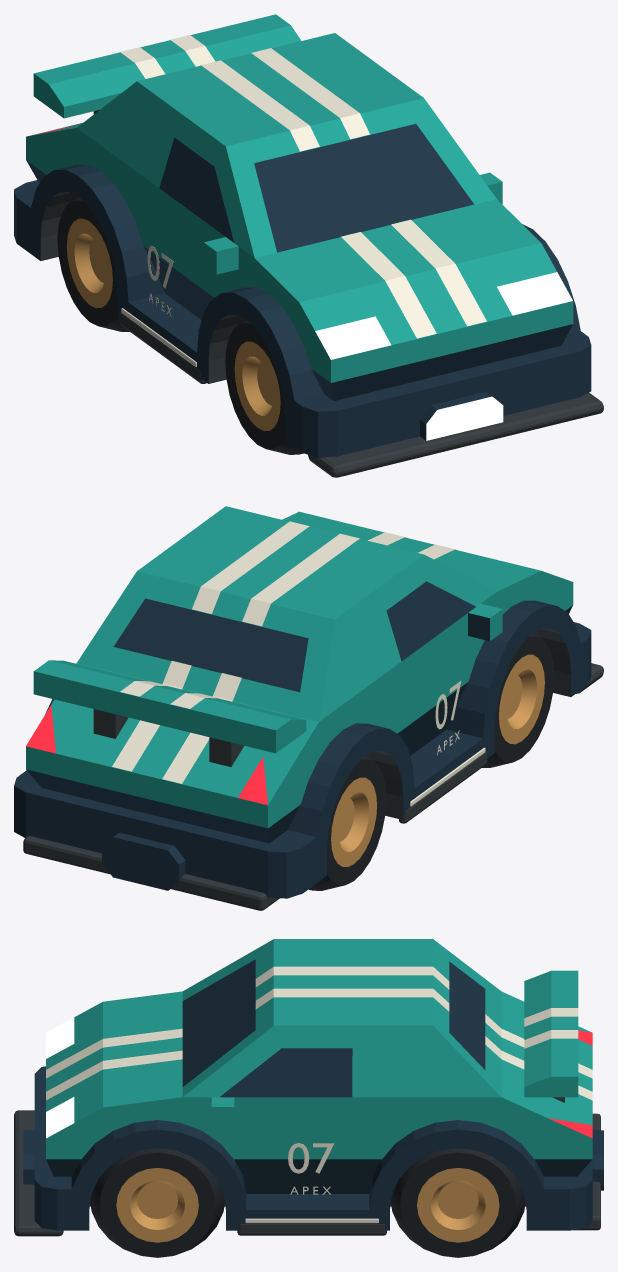
File: apex-v2.glb
3 views of the same model, one above another, from view 1: azimuth 30°, elevation 25°; view 2: azimuth 150°, elevation 25°; view 3: azimuth 270°, elevation 25° (orthographic). The views are drawn at different scales.
Parts seen in each view (by area): view 1: Body, Livery_Twin_Stripes, Rear_Wing, Wheel_FR, Front_Splitter, Wheel_RR, Side_Skirt_-1; view 2: Body, Rear_Wing, Livery_Twin_Stripes, Wheel_RR, Wheel_FR, Rear_Diffuser, Side_Skirt_-1; view 3: Body, Wheel_FL, Wheel_RL, Livery_Twin_Stripes, Rear_Wing, Front_Splitter, Side_Skirt_1, Sill_Ivory_1, Rear_Diffuser, Race_Number_1.
Part boxes in pixels (x1=…): Body: x1=14, y1=33, x2=591, y2=457; Livery_Twin_Stripes: x1=120, y1=35, x2=486, y2=338; Rear_Wing: x1=33, y1=14, x2=301, y2=118; Wheel_FR: x1=225, y1=319, x2=303, y2=454; Front_Splitter: x1=308, y1=392, x2=603, y2=477; Wheel_RR: x1=57, y1=196, x2=129, y2=331; Side_Skirt_-1: x1=119, y1=312, x2=206, y2=383; Body: x1=14, y1=506, x2=591, y2=898; Rear_Wing: x1=33, y1=660, x2=306, y2=766; Livery_Twin_Stripes: x1=112, y1=521, x2=457, y2=783; Wheel_RR: x1=308, y1=755, x2=386, y2=890; Wheel_FR: x1=482, y1=632, x2=554, y2=767; Rear_Diffuser: x1=23, y1=836, x2=279, y2=910; Side_Skirt_-1: x1=399, y1=752, x2=487, y2=823; Body: x1=23, y1=939, x2=603, y2=1230; Wheel_FL: x1=90, y1=1148, x2=224, y2=1257; Wheel_RL: x1=391, y1=1148, x2=525, y2=1257; Livery_Twin_Stripes: x1=46, y1=966, x2=592, y2=1100; Rear_Wing: x1=524, y1=970, x2=578, y2=1102; Front_Splitter: x1=14, y1=1110, x2=63, y2=1236; Side_Skirt_1: x1=237, y1=1224, x2=386, y2=1235; Sill_Ivory_1: x1=245, y1=1218, x2=378, y2=1223; Rear_Diffuser: x1=573, y1=1113, x2=600, y2=1230; Race_Number_1: x1=288, y1=1143, x2=334, y2=1173.
Bounding box in the file's own units: 2.11 × 1.76 × 4.14.
